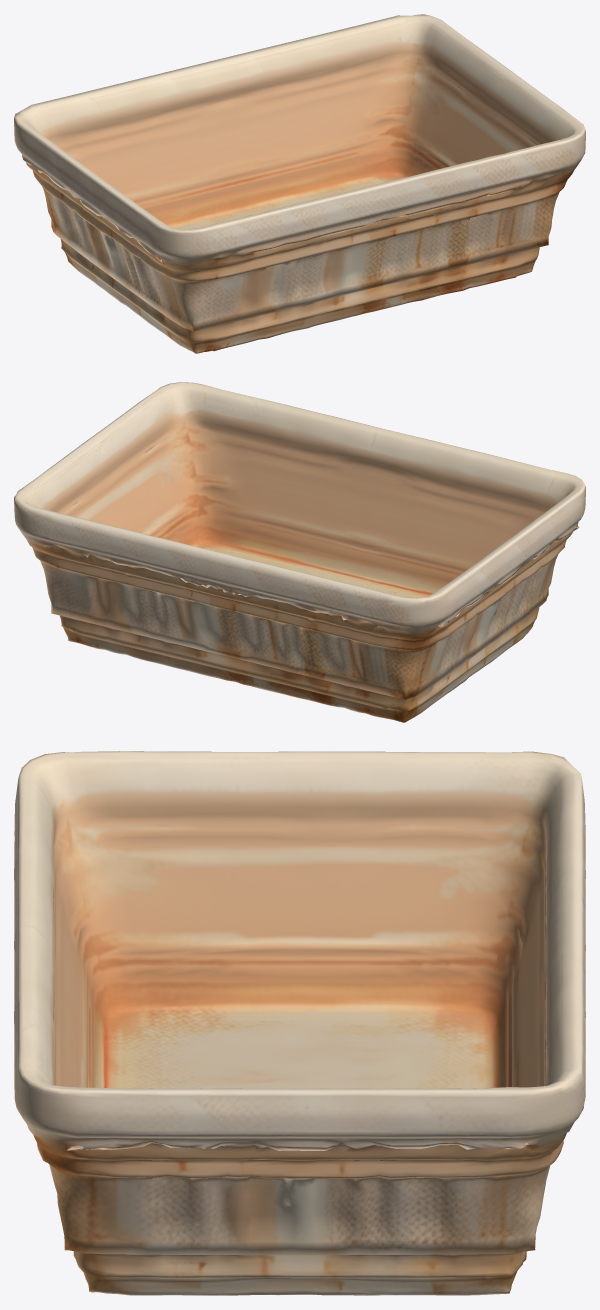
3 renders of one model, top to bottom at view 1: azimuth 30°, elevation 25°; view 2: azimuth 150°, elevation 25°; view 3: azimuth 270°, elevation 25°, orthographic. The views are drawn at different scales.
Visible parts, largest first — view 1: model; view 2: model; view 3: model.
Part boxes in pixels (left/top/right/bottom): model: left=14, top=14, right=585, bottom=353; model: left=14, top=382, right=585, bottom=722; model: left=14, top=751, right=585, bottom=1295.
Size of the model in its own units: 1.9 by 0.6081 by 1.33.
Materials: 1 (1 with a texture image).
